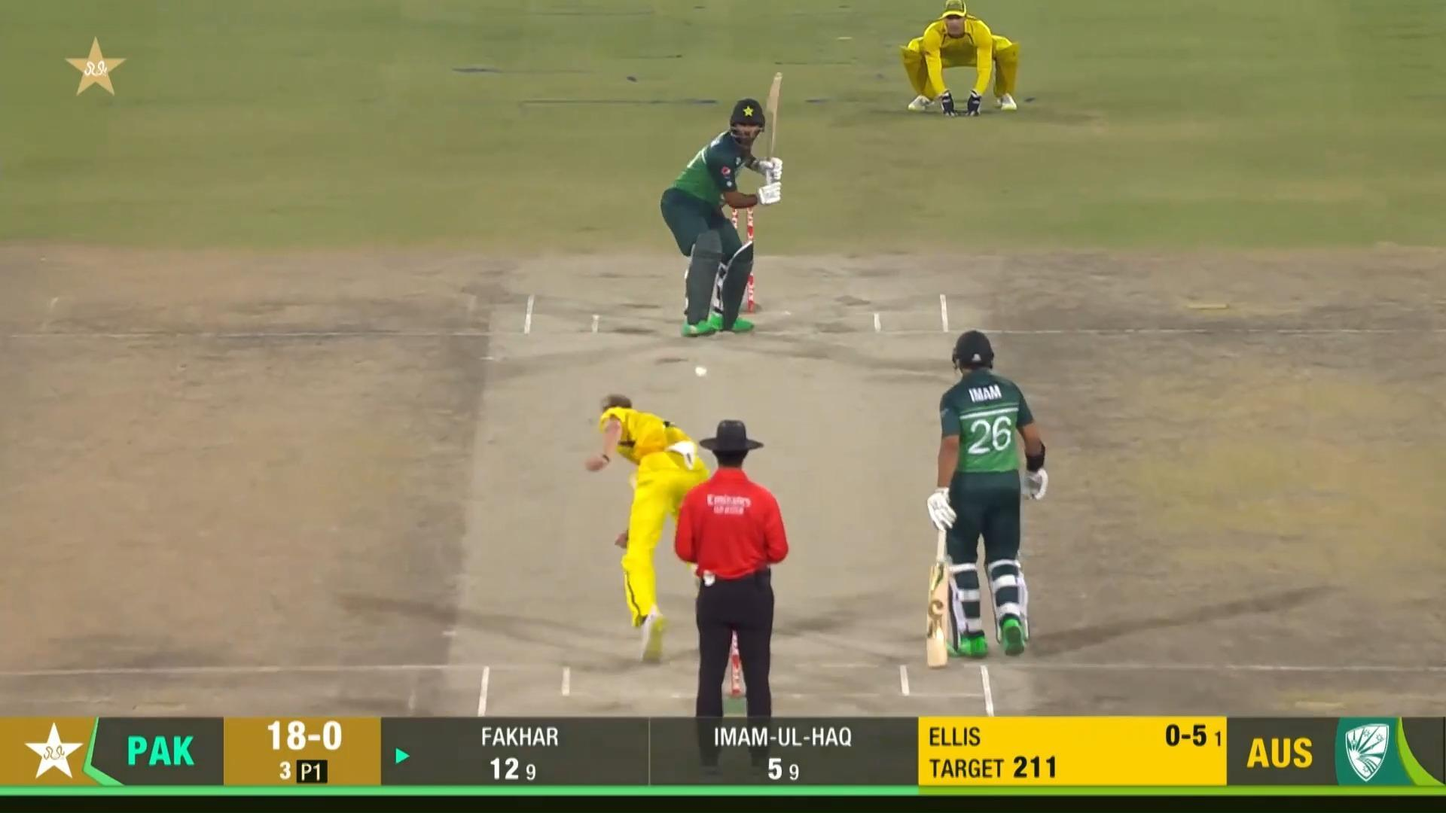BM 1: (658, 69, 789, 341)
BO: (583, 393, 709, 665)
